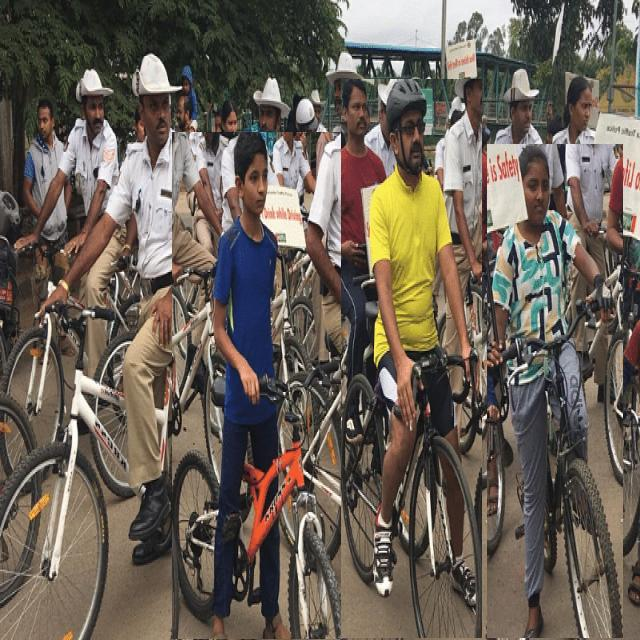bicycle: (0, 55, 216, 638), (172, 133, 346, 640), (341, 80, 481, 638), (487, 145, 622, 638)
